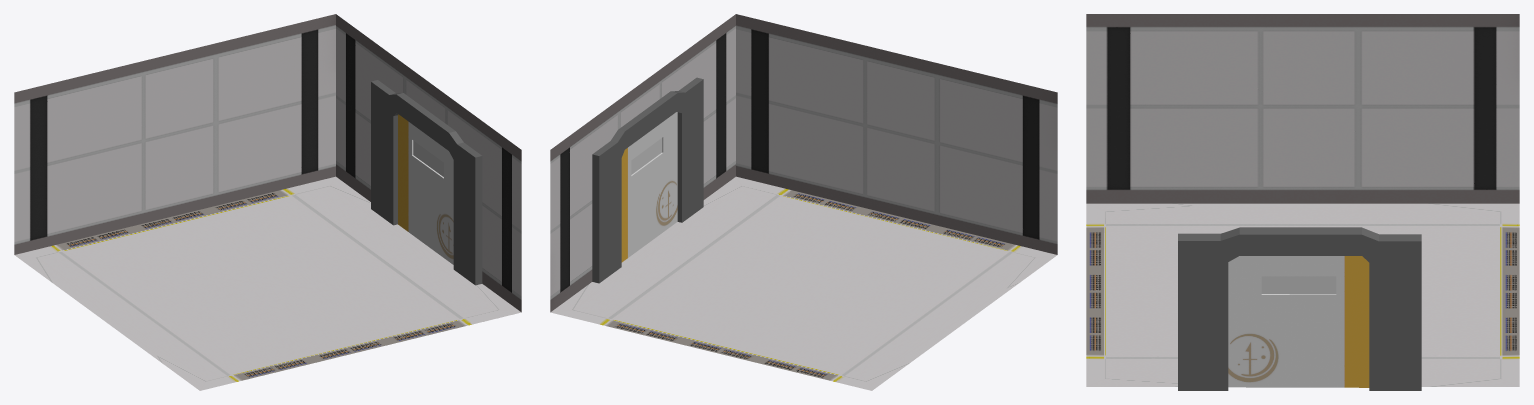
Rendered from battleGround.glb.
The picture shows the model from 3 angles, left to right: view 1: azimuth 30°, elevation 25°; view 2: azimuth 150°, elevation 25°; view 3: azimuth 270°, elevation 25°; orthographic projection. The views are drawn at different scales.
Parts seen in each view (by area): view 1: Cube.014, door3.001, InnerDoor3.001; view 2: Cube.014, door3.001, InnerDoor3.001; view 3: Cube.014, door3.001, InnerDoor3.001.
Boxes of the visible parts, box(x1,y1,x2,y2) form: Cube.014: box(14, 14, 521, 390); door3.001: box(371, 80, 482, 285); InnerDoor3.001: box(398, 114, 453, 264); Cube.014: box(550, 14, 1057, 390); door3.001: box(592, 77, 703, 283); InnerDoor3.001: box(621, 112, 677, 262); Cube.014: box(1086, 14, 1519, 386); door3.001: box(1178, 227, 1421, 390); InnerDoor3.001: box(1228, 256, 1369, 387).
Bounding box in the file's own units: 35.3 × 16.84 × 34.7.
4 materials, 2 textured.
